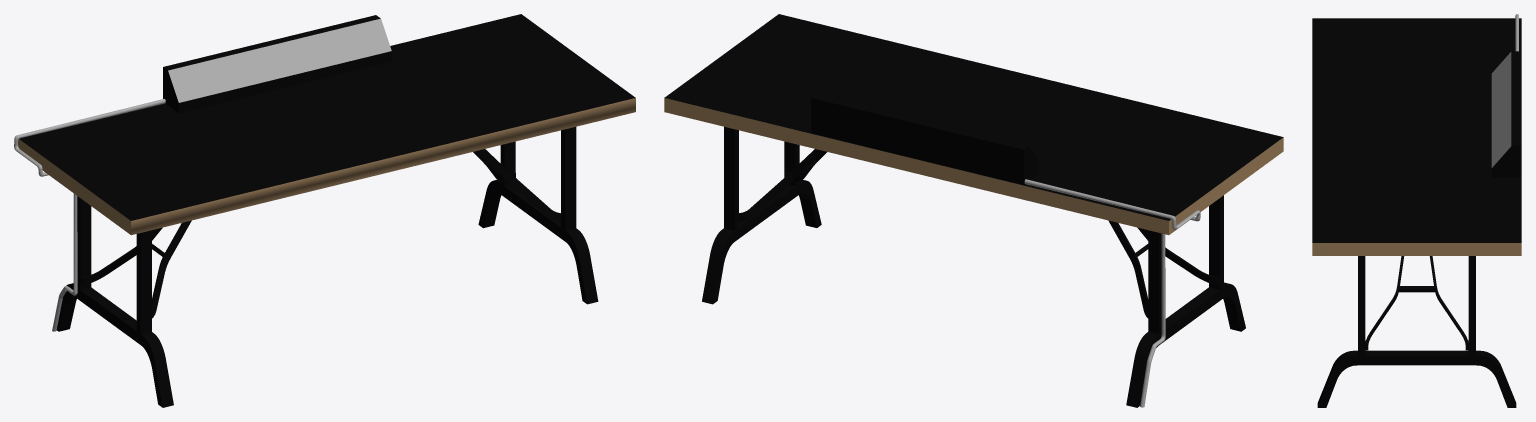
The model's file is desk1_001.fbx.
The picture shows the model from 3 angles, left to right: view 1: azimuth 30°, elevation 25°; view 2: azimuth 150°, elevation 25°; view 3: azimuth 270°, elevation 25°; orthographic projection. The views are drawn at different scales.
Visible parts, largest first — view 1: desk1_001; view 2: desk1_001; view 3: desk1_001.
Boxes of the visible parts, left/top/right/bottom form: desk1_001: left=14, top=14, right=635, bottom=407; desk1_001: left=664, top=14, right=1283, bottom=407; desk1_001: left=1312, top=14, right=1521, bottom=407.
Size of the model in its own units: 223 by 97.41 by 86.98.
